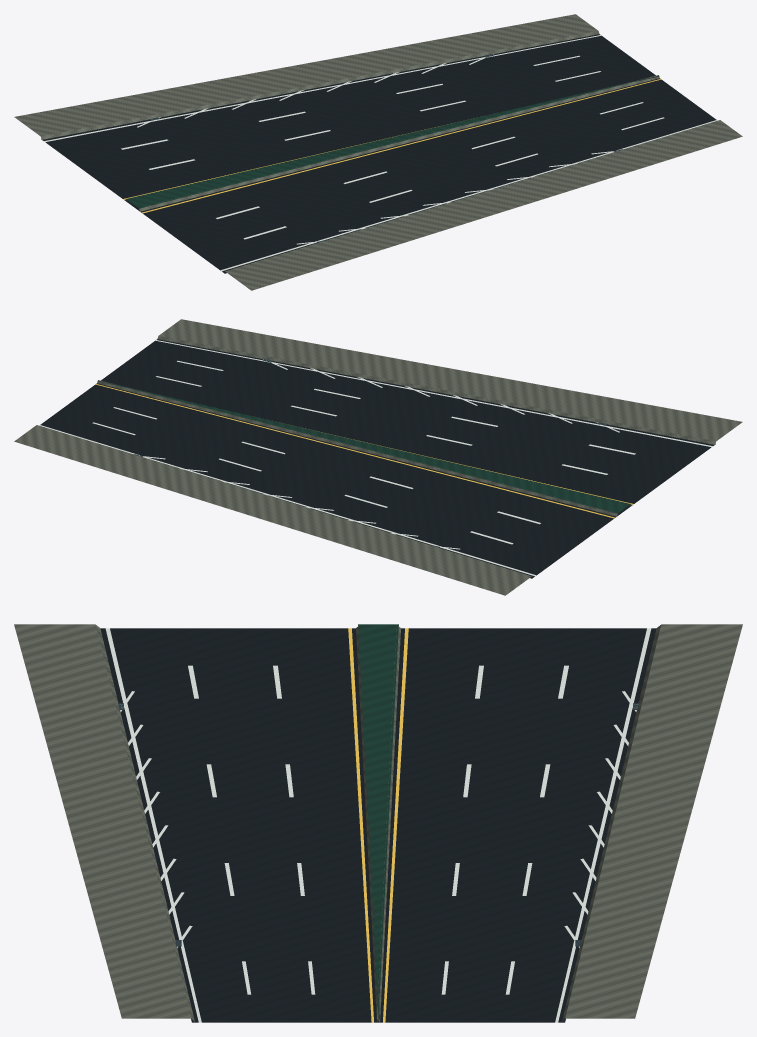
The model's file is road_taper_6to4_32m_LOD0.glb.
The picture shows the model from 3 angles, top to bottom: view 1: azimuth 30°, elevation 25°; view 2: azimuth 150°, elevation 25°; view 3: azimuth 270°, elevation 25°; orthographic projection. The views are drawn at different scales.
Parts seen in each view (by area): view 1: road_taper_6to4_32m__surface, road_taper_6to4_32m__markings; view 2: road_taper_6to4_32m__surface, road_taper_6to4_32m__markings; view 3: road_taper_6to4_32m__surface, road_taper_6to4_32m__markings.
Boxes of the visible parts, x1,y1,x2,y2 form: road_taper_6to4_32m__surface: (14, 14, 742, 290); road_taper_6to4_32m__markings: (44, 35, 717, 271); road_taper_6to4_32m__surface: (14, 319, 742, 595); road_taper_6to4_32m__markings: (39, 340, 712, 576); road_taper_6to4_32m__surface: (14, 624, 742, 1022); road_taper_6to4_32m__markings: (105, 628, 651, 1022).
Bounding box in the file's own units: 32 × 0.15 × 25.
8 materials, 4 textured.
